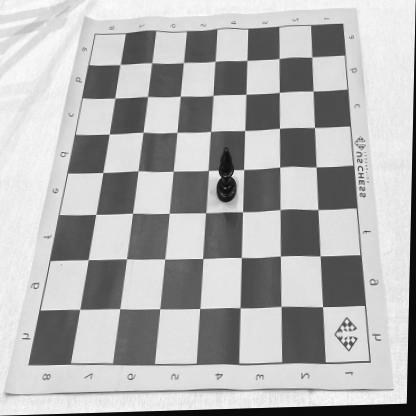black-bishop: (217, 147, 239, 205)
